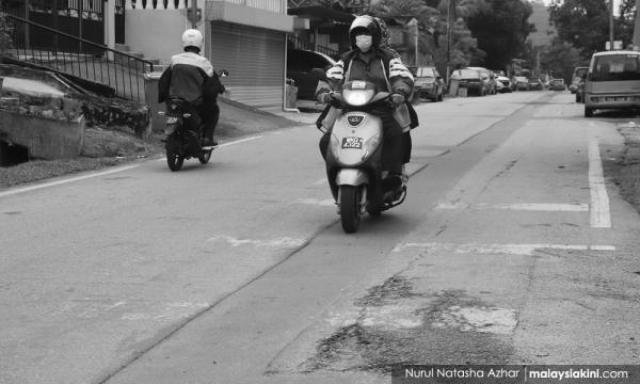Pothole: (304, 322, 376, 374)
